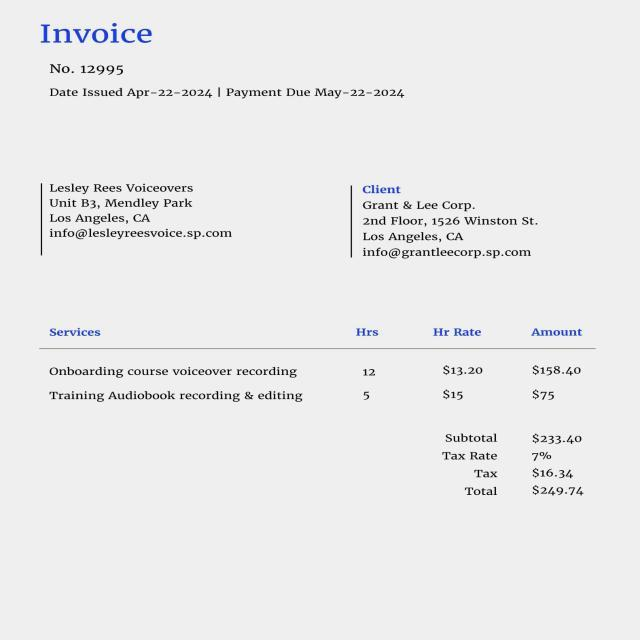ROI: (23, 306, 604, 414), (37, 55, 420, 112), (354, 182, 550, 262), (429, 423, 605, 510), (42, 176, 240, 247), (38, 18, 158, 47)
